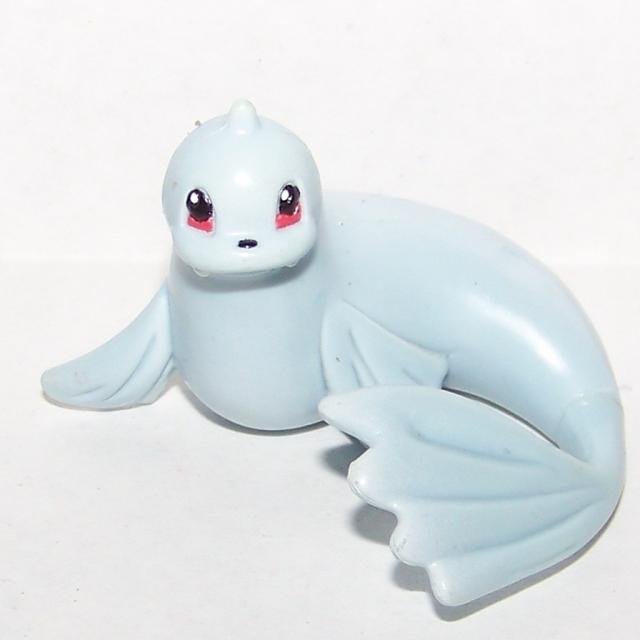Dewgong: (150, 118, 626, 465)
